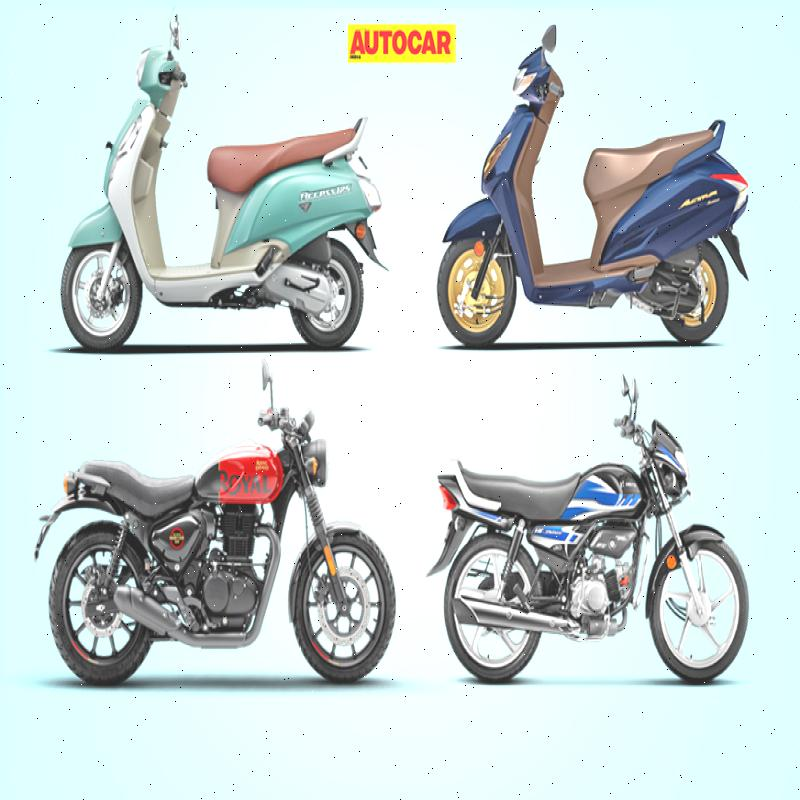bike: (16, 4, 407, 360), (14, 370, 399, 713), (420, 15, 759, 368), (416, 382, 754, 697)
